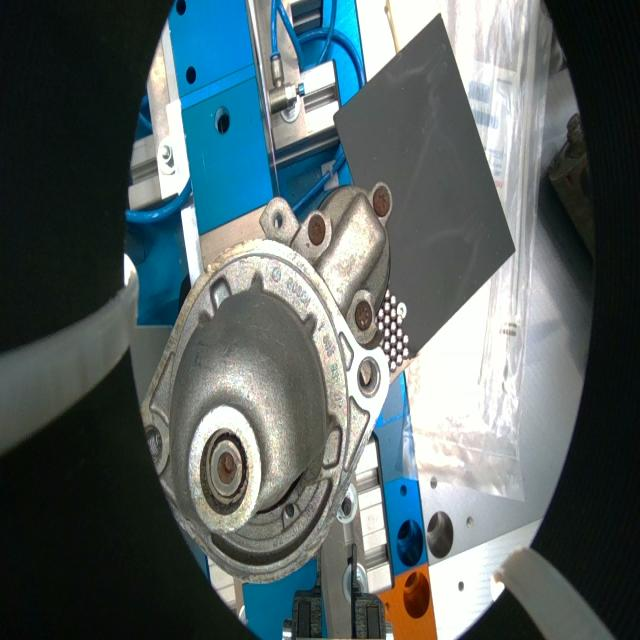Torx: (372, 185, 390, 217), (355, 299, 373, 331), (308, 213, 325, 246)
